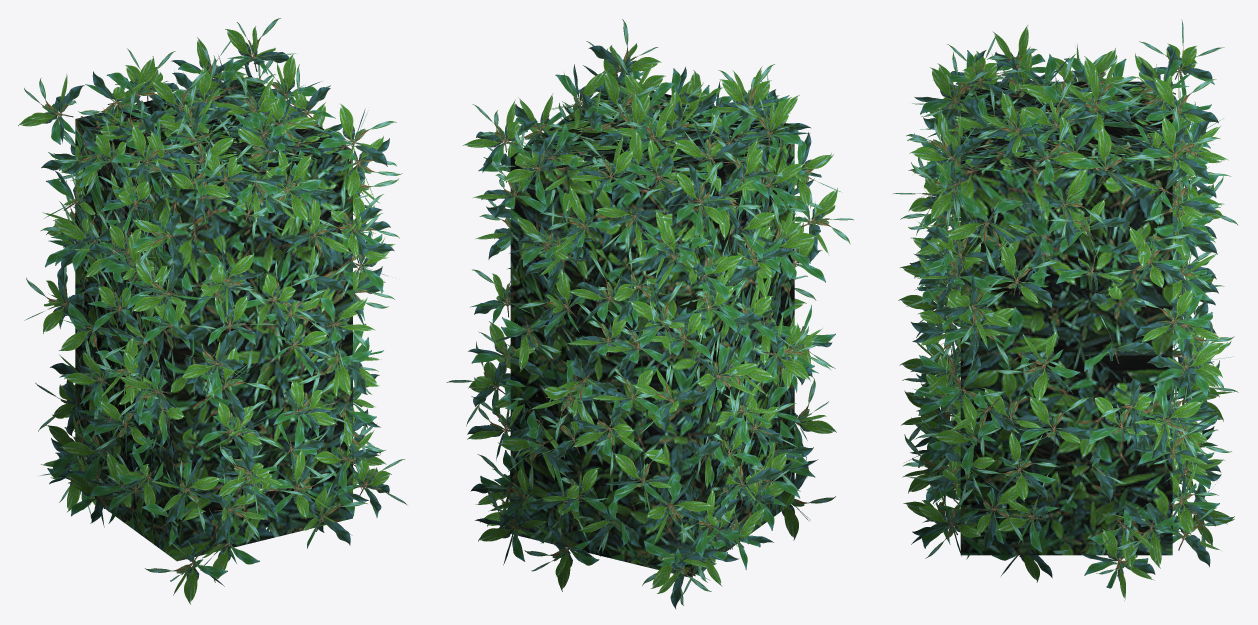
The model's file is HedgeLong.FBX.
The picture shows the model from 3 angles, left to right: view 1: azimuth 30°, elevation 25°; view 2: azimuth 150°, elevation 25°; view 3: azimuth 270°, elevation 25°; orthographic projection. The views are drawn at different scales.
Visible parts, largest first — view 1: HedgeLong; view 2: HedgeLong; view 3: HedgeLong.
Boxes of the visible parts, x1,y1,x2,y2 form: HedgeLong: [18, 18, 407, 604]; HedgeLong: [446, 19, 853, 608]; HedgeLong: [892, 19, 1238, 600].
Bounding box in the file's own units: 26.47 × 41.18 × 26.9.
